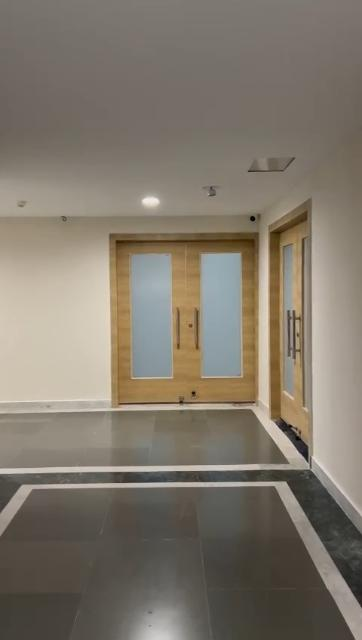door: (104, 237, 252, 408), (264, 218, 314, 424)
floor: (0, 409, 362, 640)
wall: (6, 216, 103, 400), (311, 147, 362, 482)
